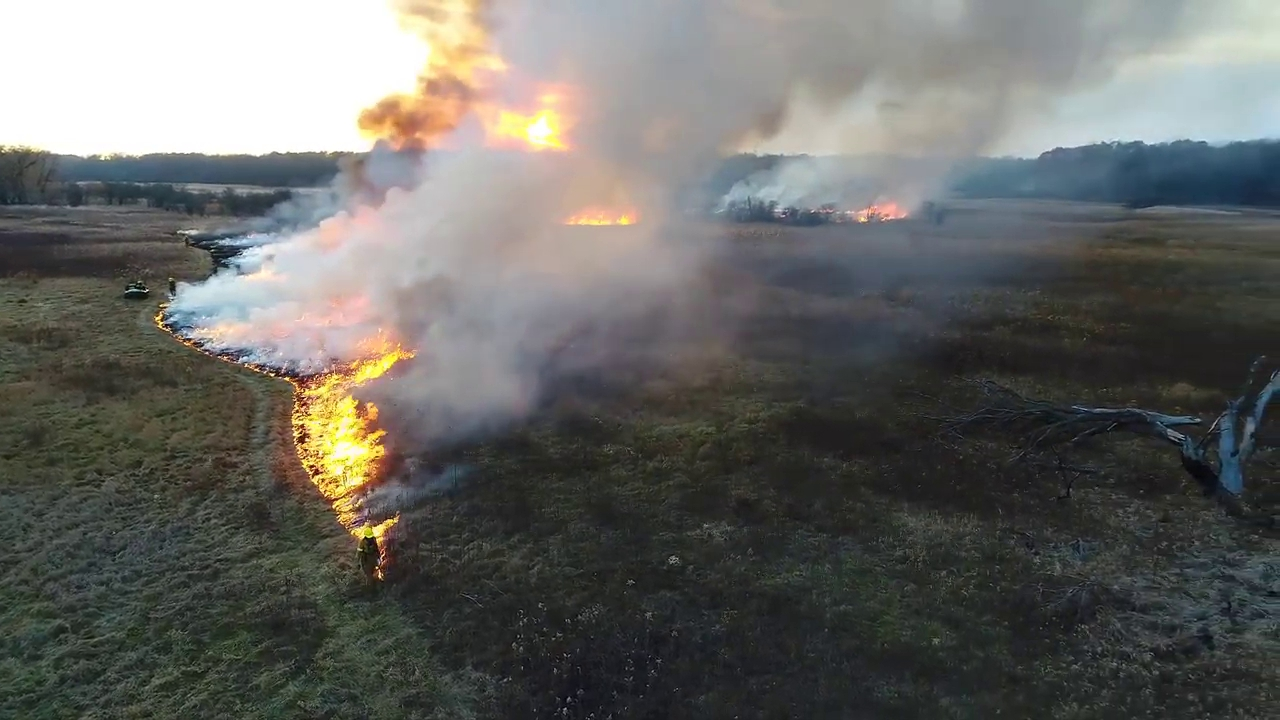forest_fire: (155, 304, 412, 579), (565, 209, 638, 226), (847, 203, 908, 222)
